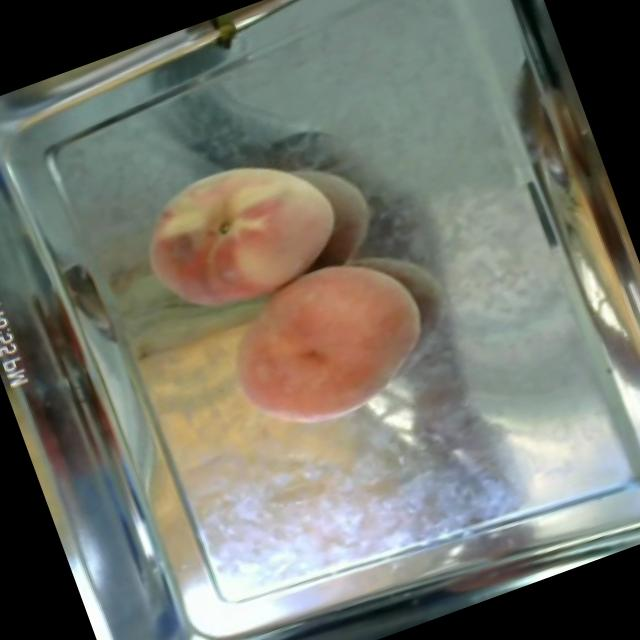Fruit: (200, 227, 454, 455), (120, 128, 364, 342)
